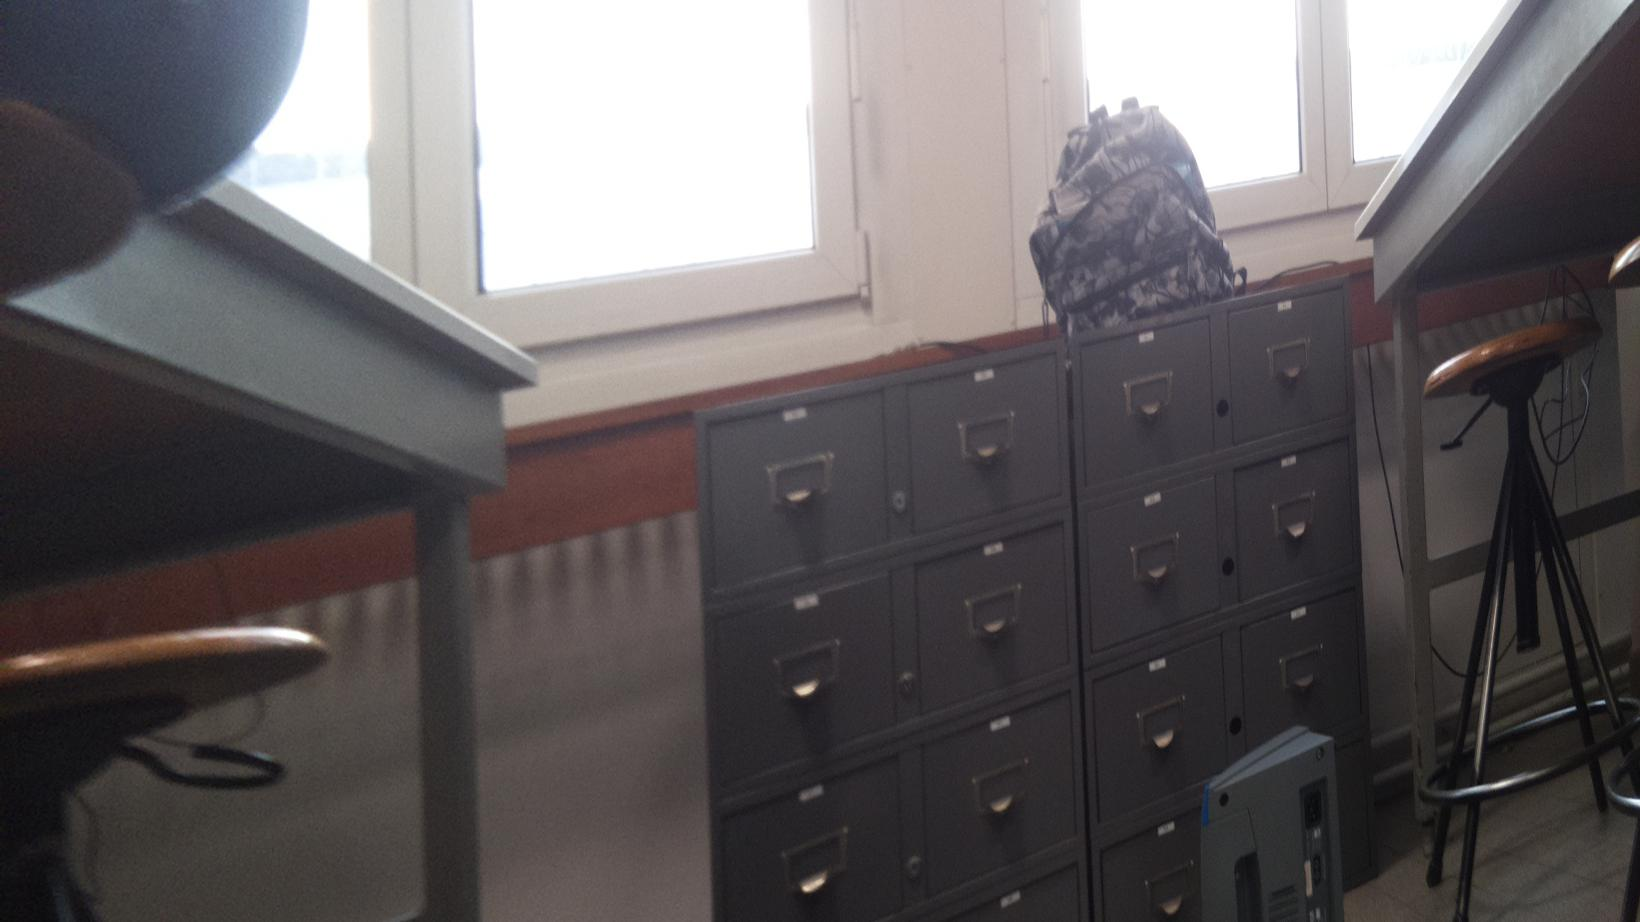big: (1026, 92, 1256, 343)
medium: (1195, 720, 1346, 922)
